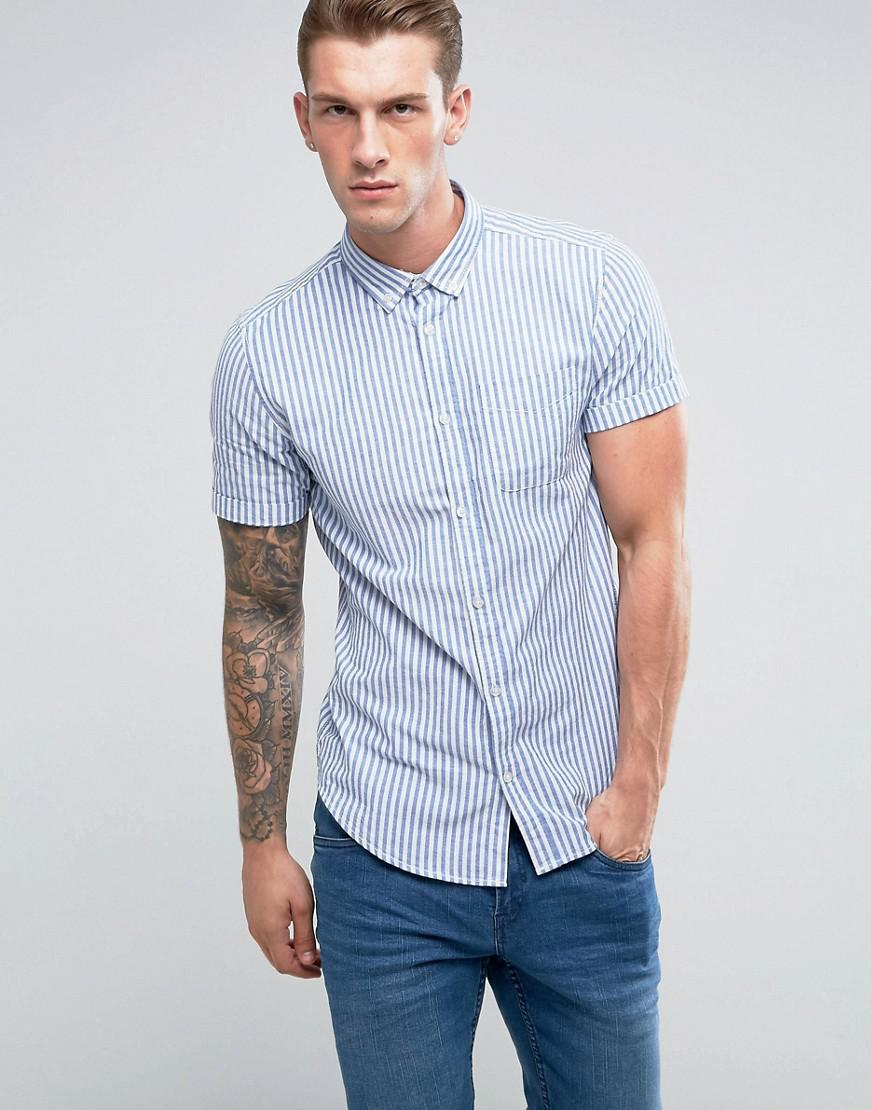teeshirt: (195, 181, 703, 901)
